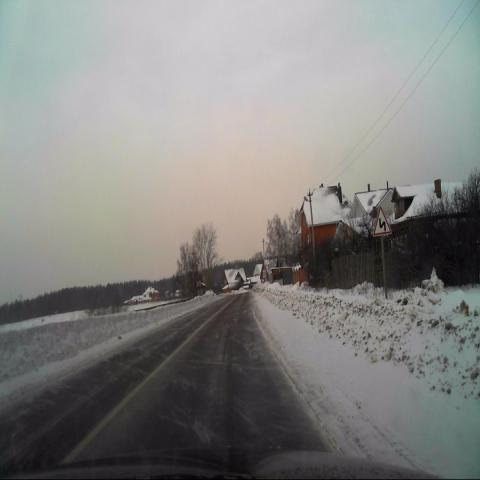1_12_2: (373, 206, 392, 236)
